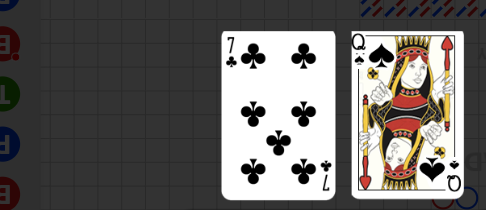7C: (224, 35, 239, 70), (318, 158, 332, 193)
